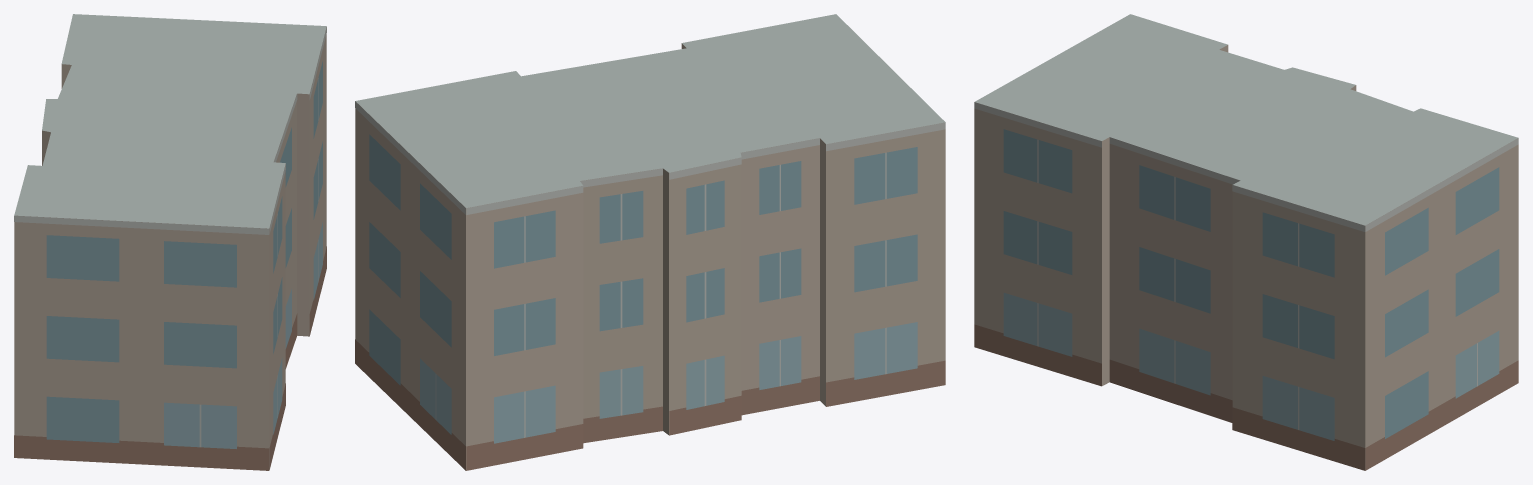
File: survey-upis-32766869.glb
3 views of the same model, side by side, from view 1: azimuth 30°, elevation 25°; view 2: azimuth 150°, elevation 25°; view 3: azimuth 270°, elevation 25° (orthographic). The views are drawn at different scales.
Visible parts, largest first — view 1: survey-upis-32766869.tmp; view 2: survey-upis-32766869.tmp; view 3: survey-upis-32766869.tmp.
Part boxes in pixels (left/top/right/bottom): survey-upis-32766869.tmp: left=14, top=14, right=326, bottom=470; survey-upis-32766869.tmp: left=355, top=14, right=945, bottom=470; survey-upis-32766869.tmp: left=974, top=14, right=1518, bottom=470.
Size of the model in its own units: 16.95 by 9.15 by 18.42.
